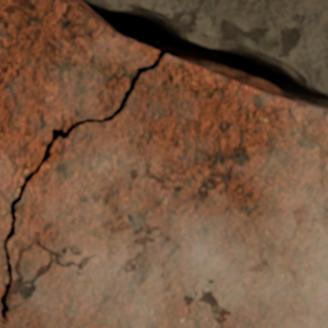brick: (0, 56, 327, 327), (0, 0, 158, 297)
crack: (0, 2, 327, 326)
